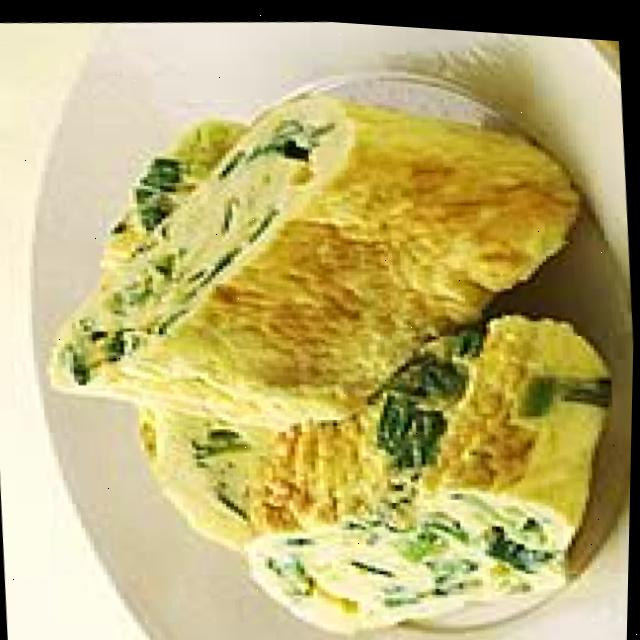鸡蛋料理: (15, 43, 639, 640)
